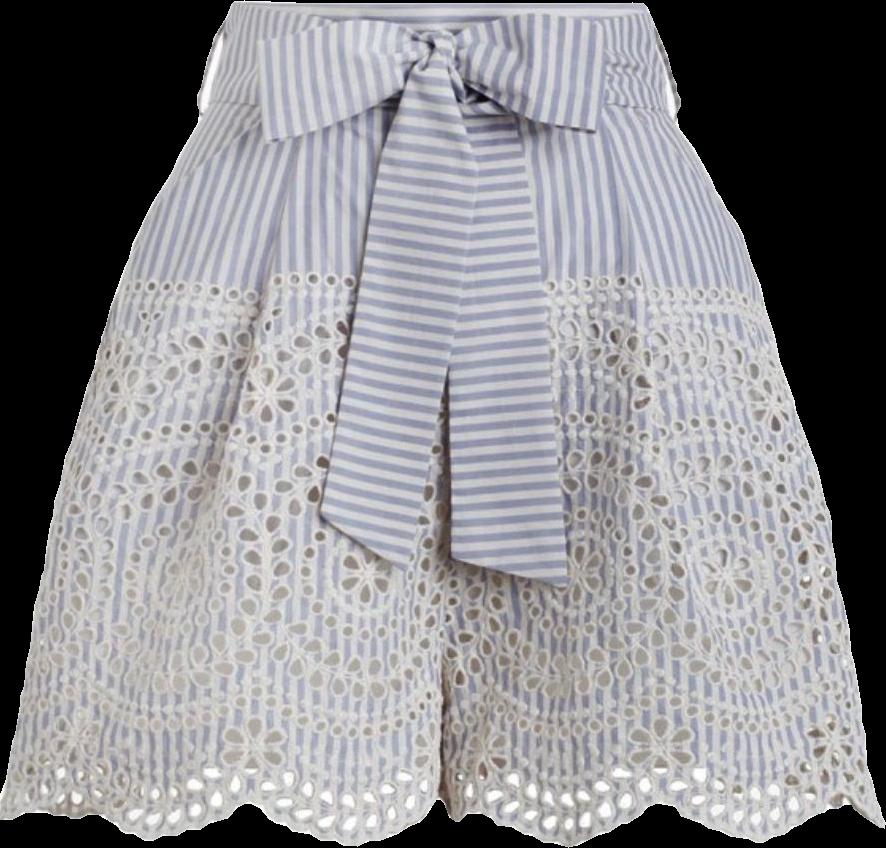Hemline: (0, 795, 444, 847), (442, 795, 885, 847)
Pantleg: (439, 0, 885, 845), (0, 0, 446, 845)
Waistline: (196, 99, 680, 112), (230, 0, 645, 9)
